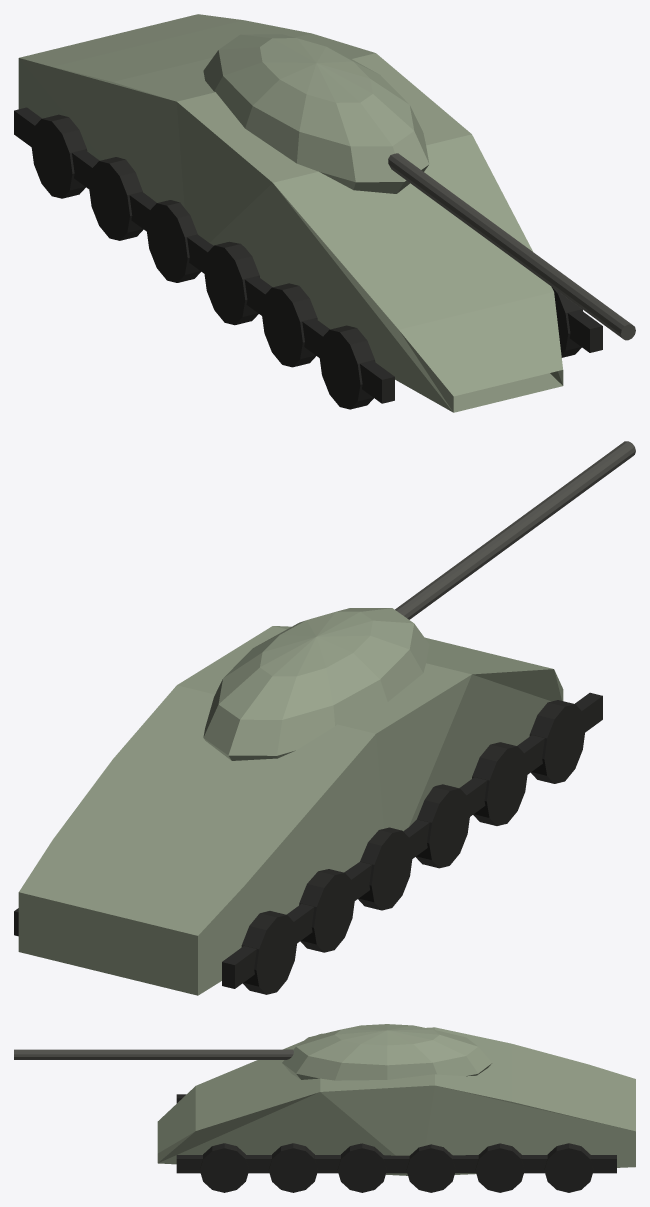
File: supply_us_m.glb
3 views of the same model, one above another, from view 1: azimuth 30°, elevation 25°; view 2: azimuth 150°, elevation 25°; view 3: azimuth 270°, elevation 25° (orthographic). The views are drawn at different scales.
Visible parts, largest first — view 1: Hull, Turret, Gun, Track_L, Wheel_L_06, Wheel_L_02, Wheel_L_01, Wheel_L_03, Wheel_L_05, Wheel_L_04, Track_R, Wheel_R_01; view 2: Hull, Turret, Track_L, Gun, Wheel_L_06, Wheel_L_01, Wheel_L_02, Wheel_L_05, Wheel_L_03, Wheel_L_04; view 3: Hull, Turret, Track_R, Gun, Wheel_R_06, Wheel_R_02, Wheel_R_01, Wheel_R_05, Wheel_R_03, Wheel_R_04.
Part boxes in pixels (left/top/right/bottom): Hull: left=18, top=14, right=563, bottom=412; Turret: left=203, top=34, right=429, bottom=193; Gun: left=388, top=153, right=635, bottom=340; Track_L: left=14, top=107, right=394, bottom=403; Wheel_L_06: left=31, top=114, right=87, bottom=198; Wheel_L_02: left=261, top=283, right=317, bottom=367; Wheel_L_01: left=319, top=325, right=375, bottom=409; Wheel_L_03: left=204, top=241, right=259, bottom=325; Wheel_L_05: left=89, top=157, right=143, bottom=240; Wheel_L_04: left=146, top=200, right=201, bottom=282; Track_R: left=567, top=310, right=602, bottom=352; Wheel_R_01: left=551, top=287, right=582, bottom=357; Hull: left=18, top=626, right=563, bottom=995; Turret: left=203, top=608, right=429, bottom=760; Track_L: left=222, top=692, right=602, bottom=988; Gun: left=395, top=441, right=635, bottom=619; Wheel_L_06: left=241, top=911, right=297, bottom=994; Wheel_L_01: left=529, top=700, right=585, bottom=783; Wheel_L_02: left=472, top=742, right=527, bottom=825; Wheel_L_05: left=299, top=869, right=355, bottom=952; Wheel_L_03: left=416, top=784, right=470, bottom=868; Wheel_L_04: left=358, top=827, right=412, bottom=910; Hull: left=157, top=1027, right=635, bottom=1175; Turret: left=282, top=1024, right=491, bottom=1080; Track_R: left=176, top=1155, right=616, bottom=1173; Gun: left=14, top=1049, right=293, bottom=1059; Wheel_R_06: left=544, top=1143, right=593, bottom=1192; Wheel_R_02: left=268, top=1143, right=317, bottom=1192; Wheel_R_01: left=200, top=1143, right=249, bottom=1192; Wheel_R_05: left=475, top=1143, right=524, bottom=1192; Wheel_R_03: left=337, top=1143, right=386, bottom=1192; Wheel_R_04: left=406, top=1144, right=455, bottom=1192.
Bounding box in the file's own units: 2.6 × 2.39 × 10.4.
